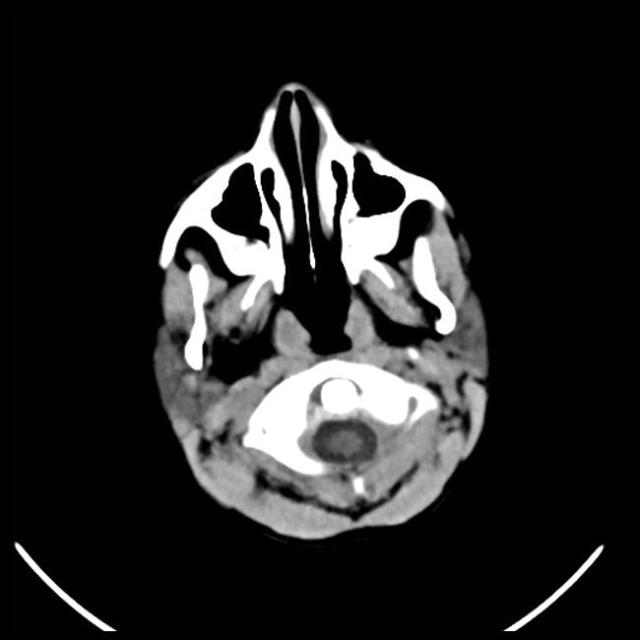lesion: (148, 78, 496, 544)
